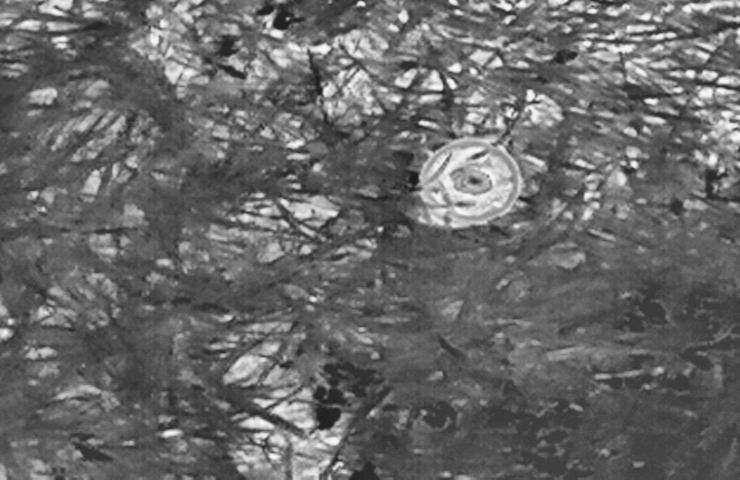landmines: (413, 129, 528, 237)
